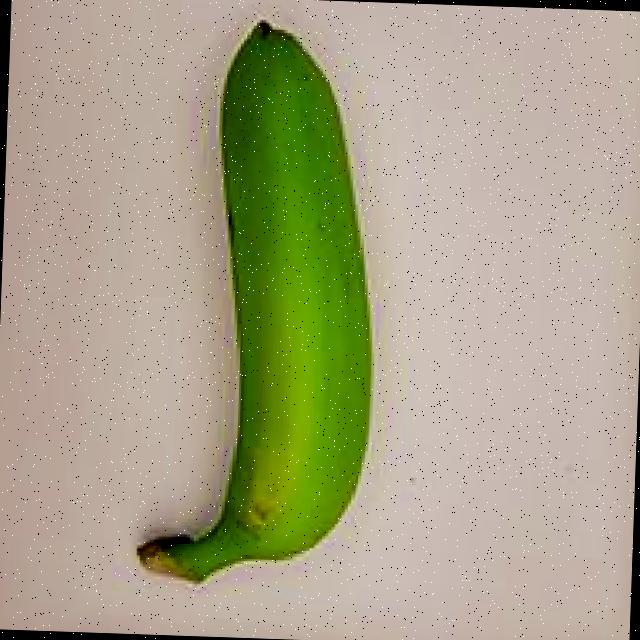Unripe: (100, 6, 423, 613)
